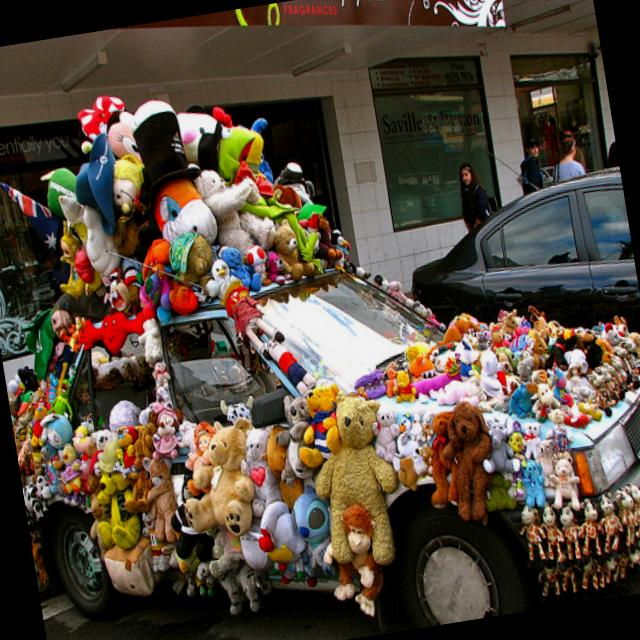Vehicle: (0, 213, 640, 640), (394, 175, 640, 492)
